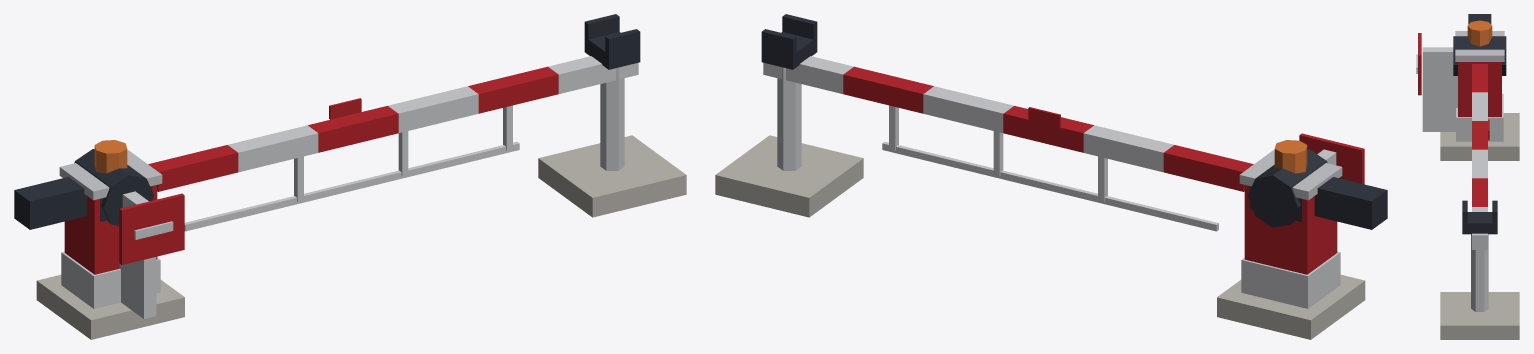
The model's file is barrier_post.glb.
3 views of the same model, side by side, from view 1: azimuth 30°, elevation 25°; view 2: azimuth 150°, elevation 25°; view 3: azimuth 270°, elevation 25° (orthographic). The views are drawn at different scales.
Parts seen in each view (by area): view 1: base, arm; view 2: base, arm; view 3: base, arm.
Boxes of the visible parts, x1=… form: base: x1=36, y1=14, x2=686, y2=339; arm: x1=14, y1=56, x2=638, y2=231; base: x1=715, y1=14, x2=1365, y2=339; arm: x1=763, y1=56, x2=1387, y2=231; base: x1=1416, y1=20, x2=1519, y2=339; arm: x1=1453, y1=14, x2=1506, y2=249.
Bounding box in the file's own units: 6.1 × 1.48 × 1.17.
